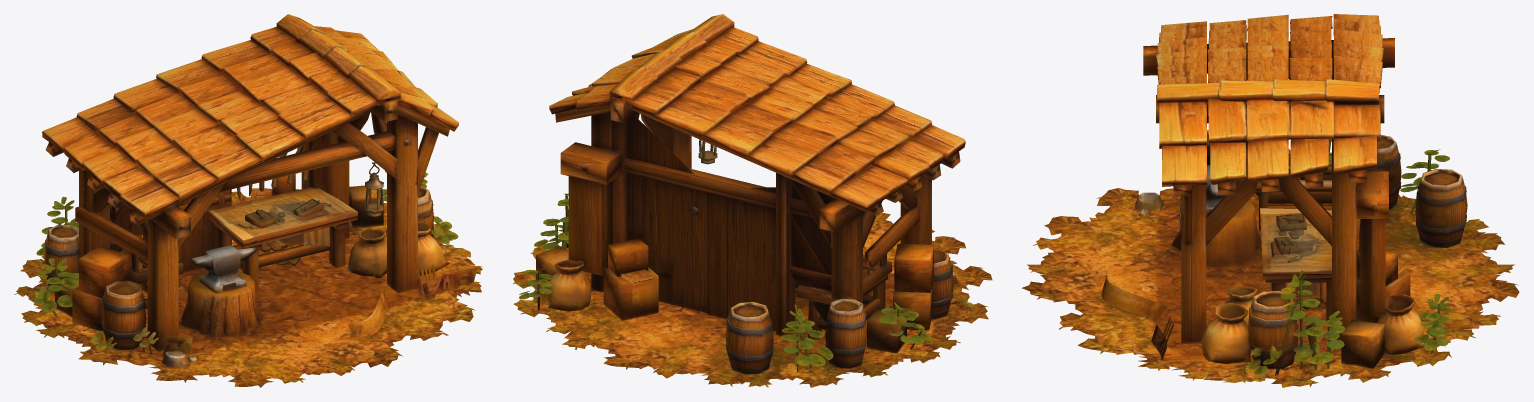
The model's file is artisanat_t1.glb.
The picture shows the model from 3 angles, left to right: view 1: azimuth 30°, elevation 25°; view 2: azimuth 150°, elevation 25°; view 3: azimuth 270°, elevation 25°; orthographic projection. The views are drawn at different scales.
Visible parts, largest first — view 1: artisanat_t1; view 2: artisanat_t1; view 3: artisanat_t1.
Part boxes in pixels (box(x1,y1,x2,y2)): artisanat_t1: box(14, 14, 482, 387); artisanat_t1: box(513, 14, 992, 387); artisanat_t1: box(1022, 14, 1519, 387).
Bounding box in the file's own units: 1 × 0.5164 × 0.9502.
Materials: 1 (1 with a texture image).
